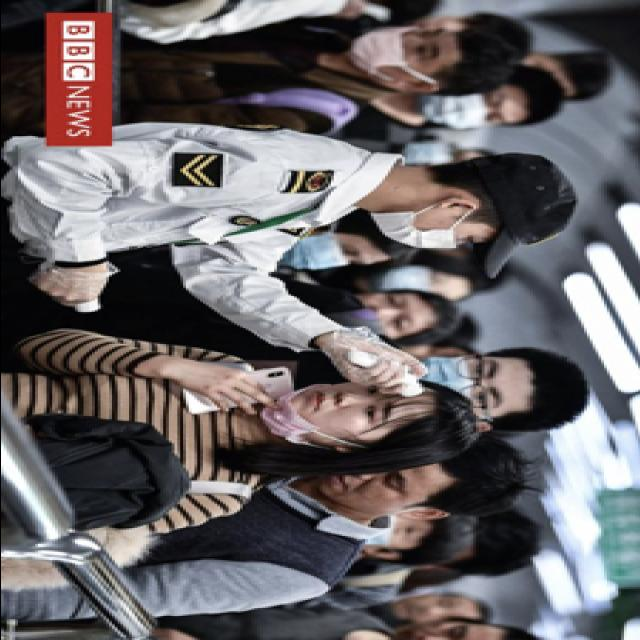mask: (410, 354, 510, 414), (347, 22, 449, 74), (366, 210, 486, 250), (415, 86, 509, 128), (278, 229, 372, 269), (373, 264, 455, 301), (398, 141, 472, 165)
no_mask: (258, 378, 398, 442), (316, 464, 418, 509), (386, 592, 464, 626), (381, 618, 475, 638)
